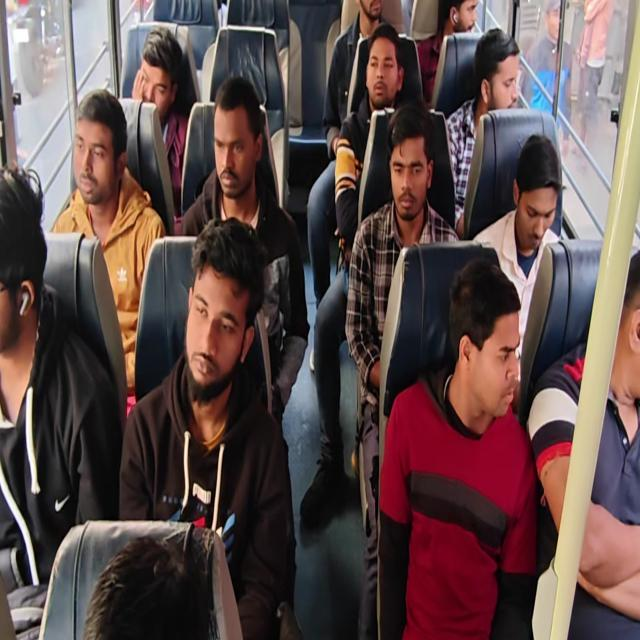person: (1, 2, 638, 638), (118, 216, 299, 638), (344, 99, 460, 637), (377, 256, 538, 638), (0, 164, 124, 638), (299, 22, 406, 524), (178, 75, 310, 427), (526, 248, 640, 638), (50, 89, 166, 416), (471, 132, 563, 414), (333, 23, 406, 261), (445, 28, 521, 236), (82, 533, 220, 639), (323, 0, 405, 158), (130, 26, 189, 216), (520, 0, 574, 155), (569, 0, 615, 166), (415, 0, 479, 105)
